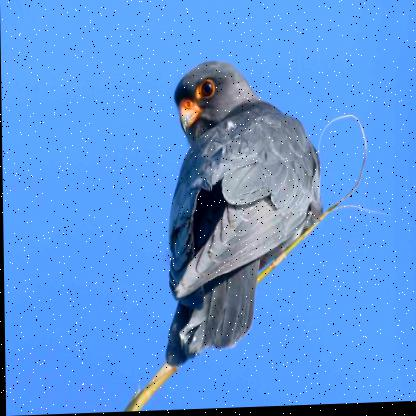Burung: (162, 59, 329, 365)
